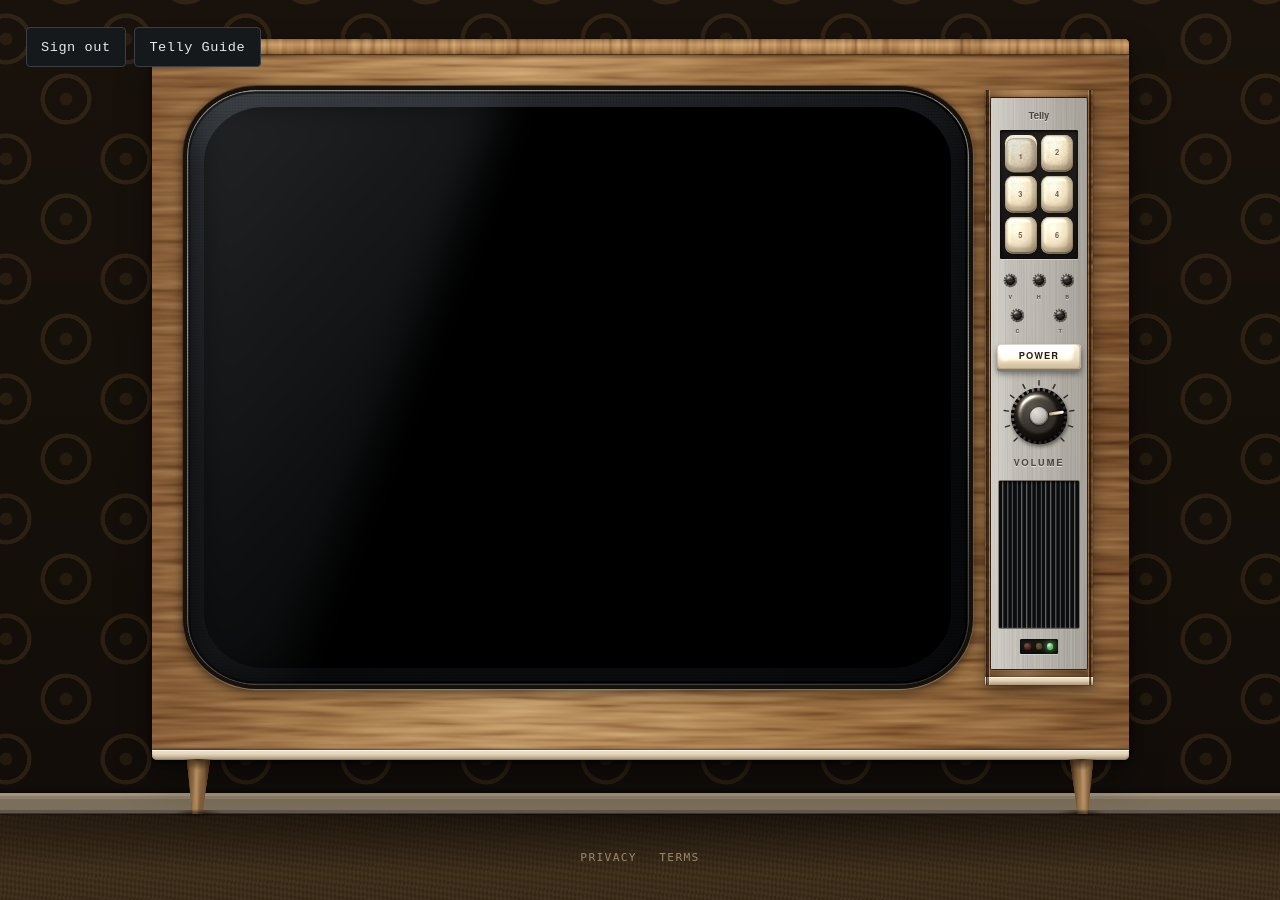
Test: Channel › the Google session › signs out, and offers sign-in again
The width and height of the screenshot is (1280, 900).
Click the button "Sign out" at x=76, y=47, box [26,27,126,67]
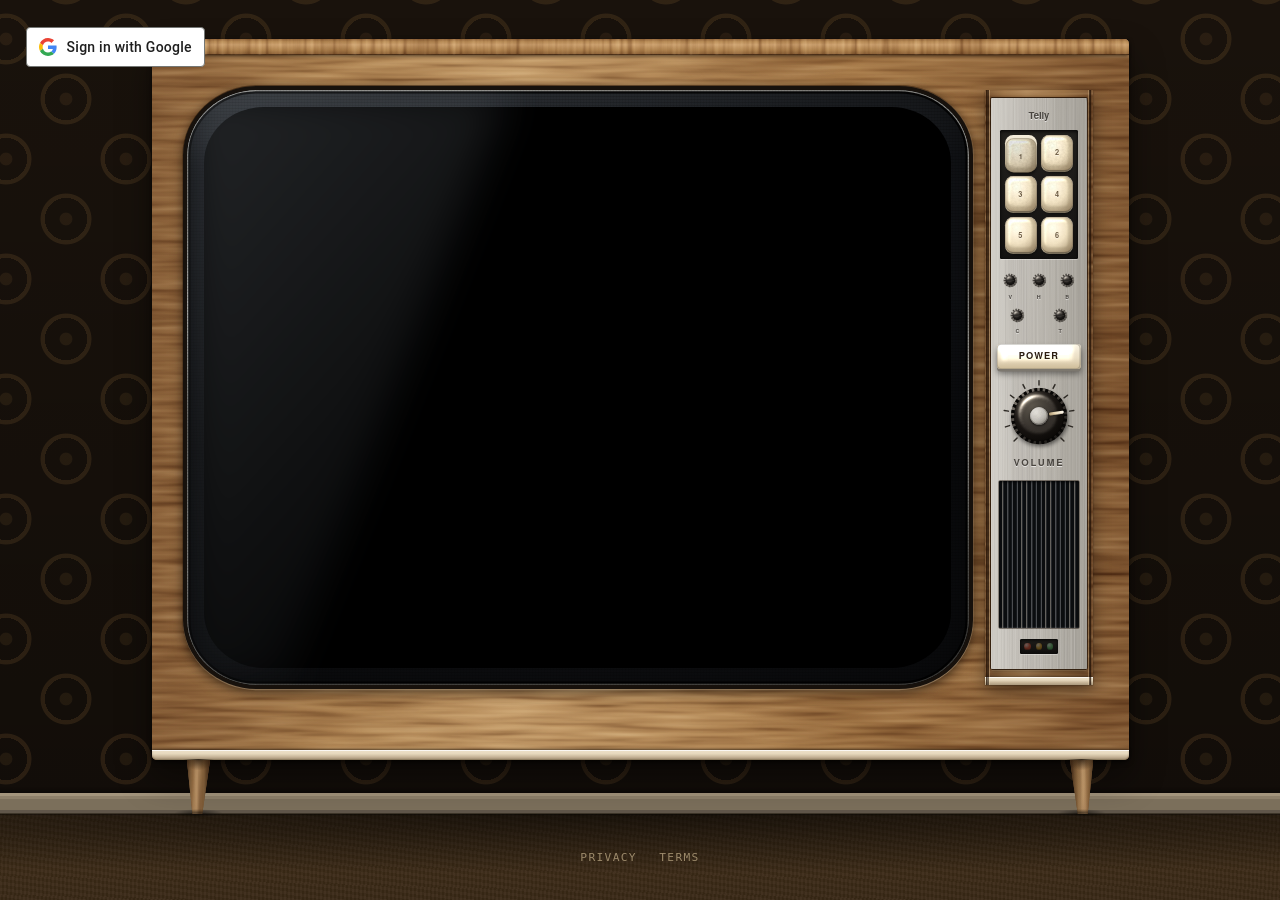
expect the button "Sign in with Google" is shown: met, box [26,27,205,67]
expect the button "Sign out" is gone: met
